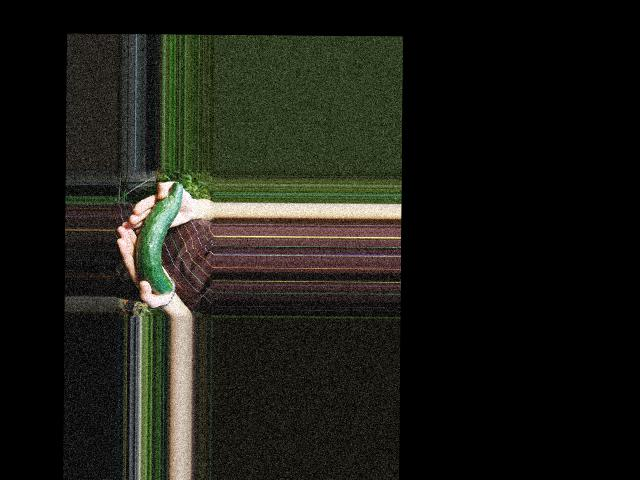cucumber: (135, 182, 183, 295)
